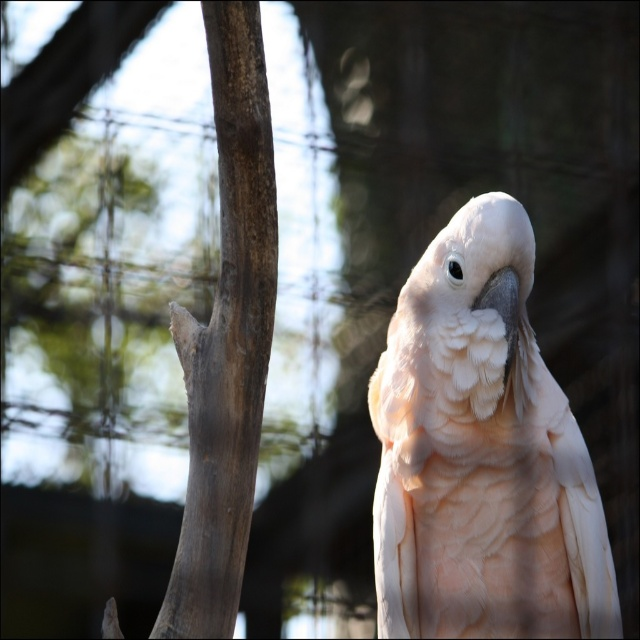Parrot: (367, 190, 626, 639)
